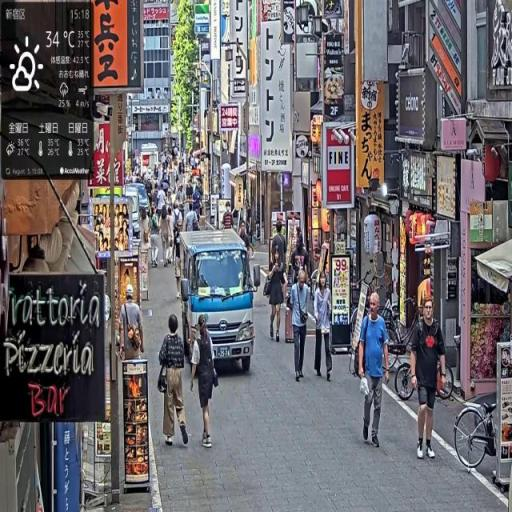person: (409, 294, 448, 462), (358, 291, 391, 450), (158, 314, 189, 449), (189, 314, 220, 447), (290, 263, 312, 382), (314, 271, 335, 383), (266, 242, 287, 340), (149, 207, 163, 267)
